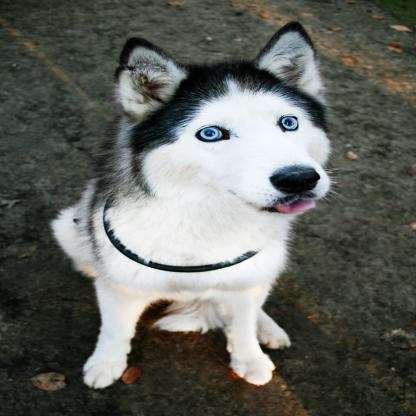husky: (54, 23, 339, 390)
